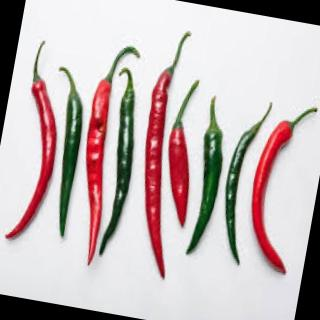Cabai Hijau: (101, 70, 135, 257), (225, 112, 265, 266), (186, 96, 223, 257), (57, 78, 83, 242)
Cabai Merah: (253, 109, 317, 274), (7, 77, 57, 241), (145, 67, 173, 279), (86, 80, 113, 266), (169, 115, 190, 229)
